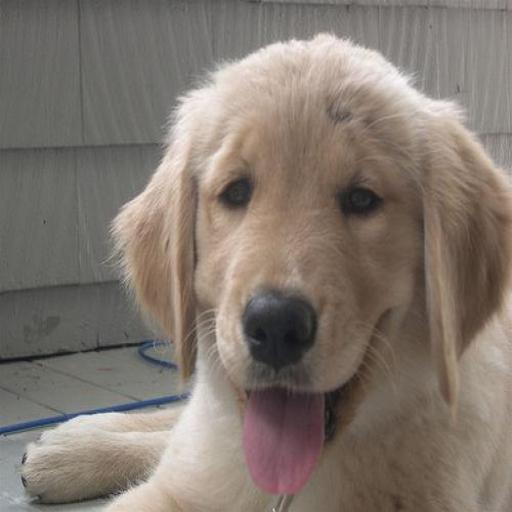dog_face: (108, 34, 500, 450)
